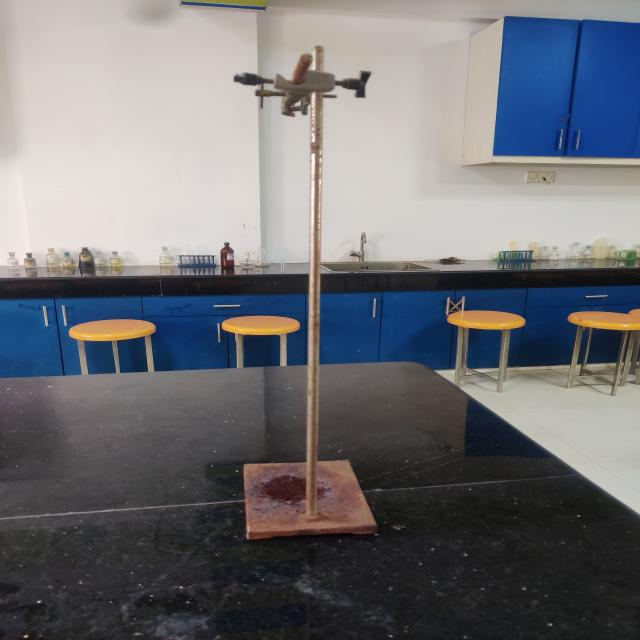Burette_Stands: (208, 39, 419, 548)
